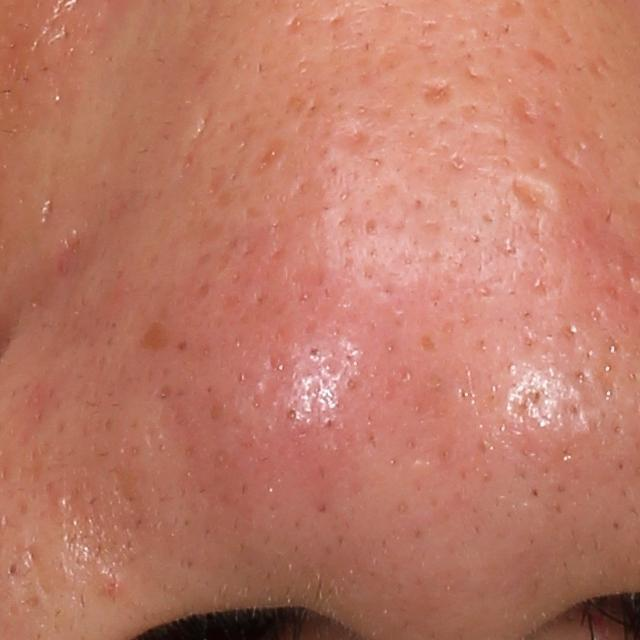atrophic_scar: (174, 96, 215, 178), (511, 182, 557, 216), (524, 44, 564, 77), (255, 140, 283, 178), (338, 126, 376, 152), (420, 83, 454, 111), (516, 95, 542, 126), (282, 17, 306, 40)
comedo: (362, 214, 380, 238)
melasma: (136, 321, 169, 350)
